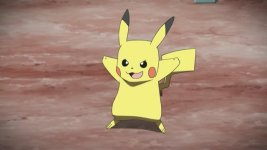pikachu: (102, 7, 199, 136)
